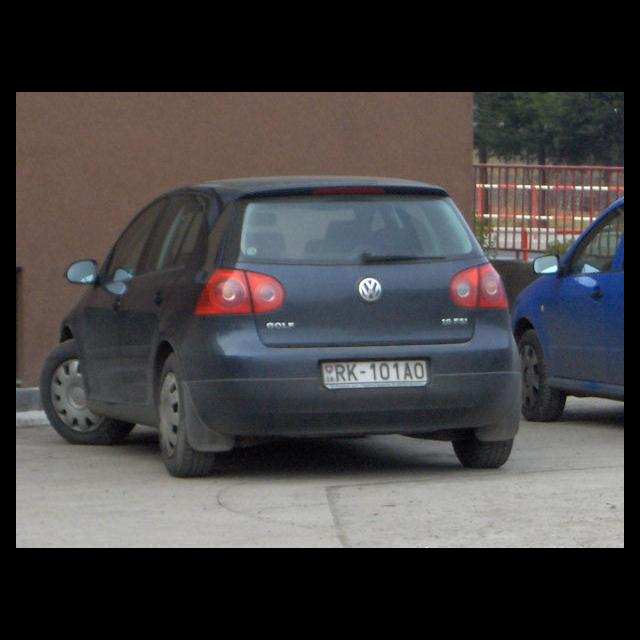Plate: (319, 356, 430, 389)
